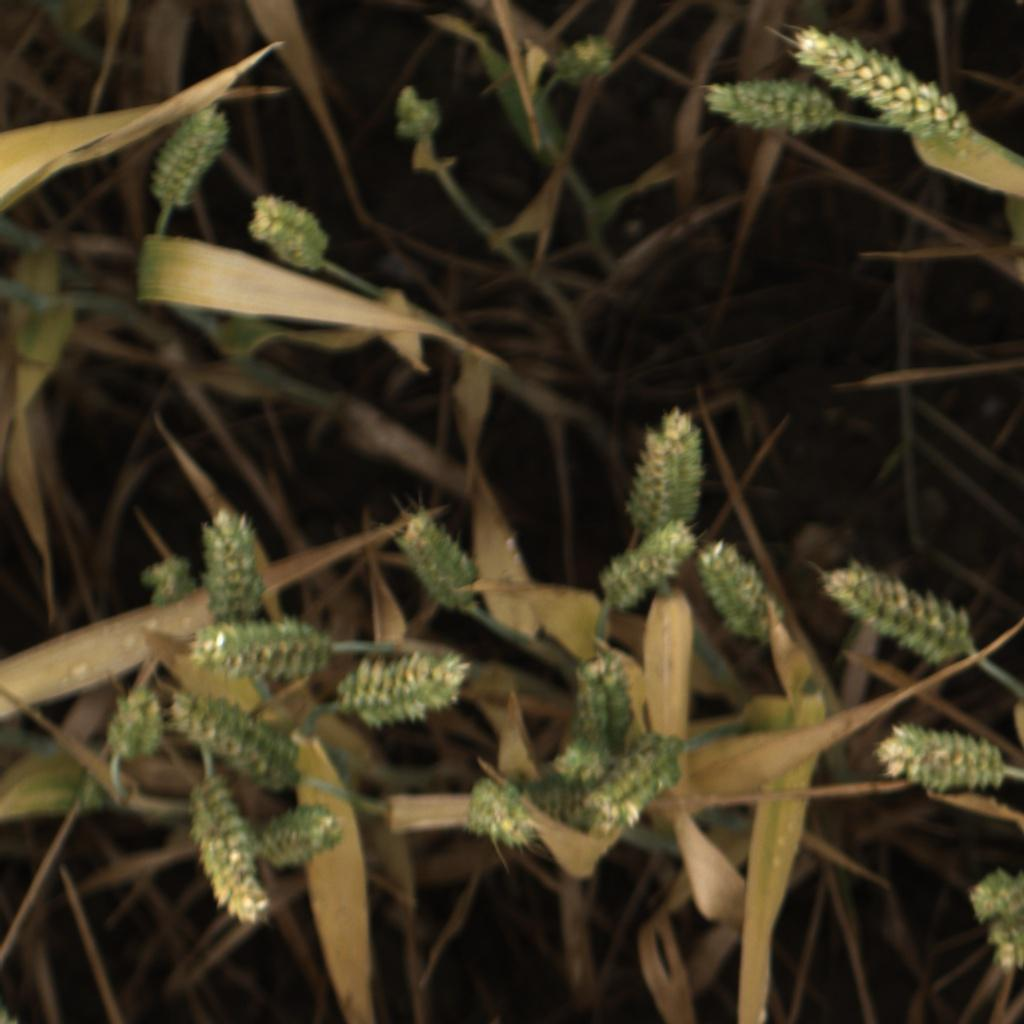0-0: (791, 25, 973, 147), (815, 551, 973, 661), (164, 687, 309, 789), (187, 778, 271, 930), (584, 726, 695, 838), (335, 649, 475, 732), (621, 406, 711, 525), (868, 721, 1005, 798), (184, 617, 332, 681), (600, 517, 693, 618), (199, 501, 271, 630), (145, 104, 230, 212), (697, 76, 841, 139), (695, 538, 778, 639), (400, 507, 478, 611), (565, 646, 640, 745), (245, 195, 332, 275), (519, 770, 617, 835), (463, 779, 544, 856), (263, 805, 351, 875), (539, 736, 619, 803), (108, 686, 170, 766), (548, 31, 624, 91), (392, 84, 446, 146), (964, 865, 1024, 919), (142, 551, 196, 608), (981, 916, 1024, 973)
